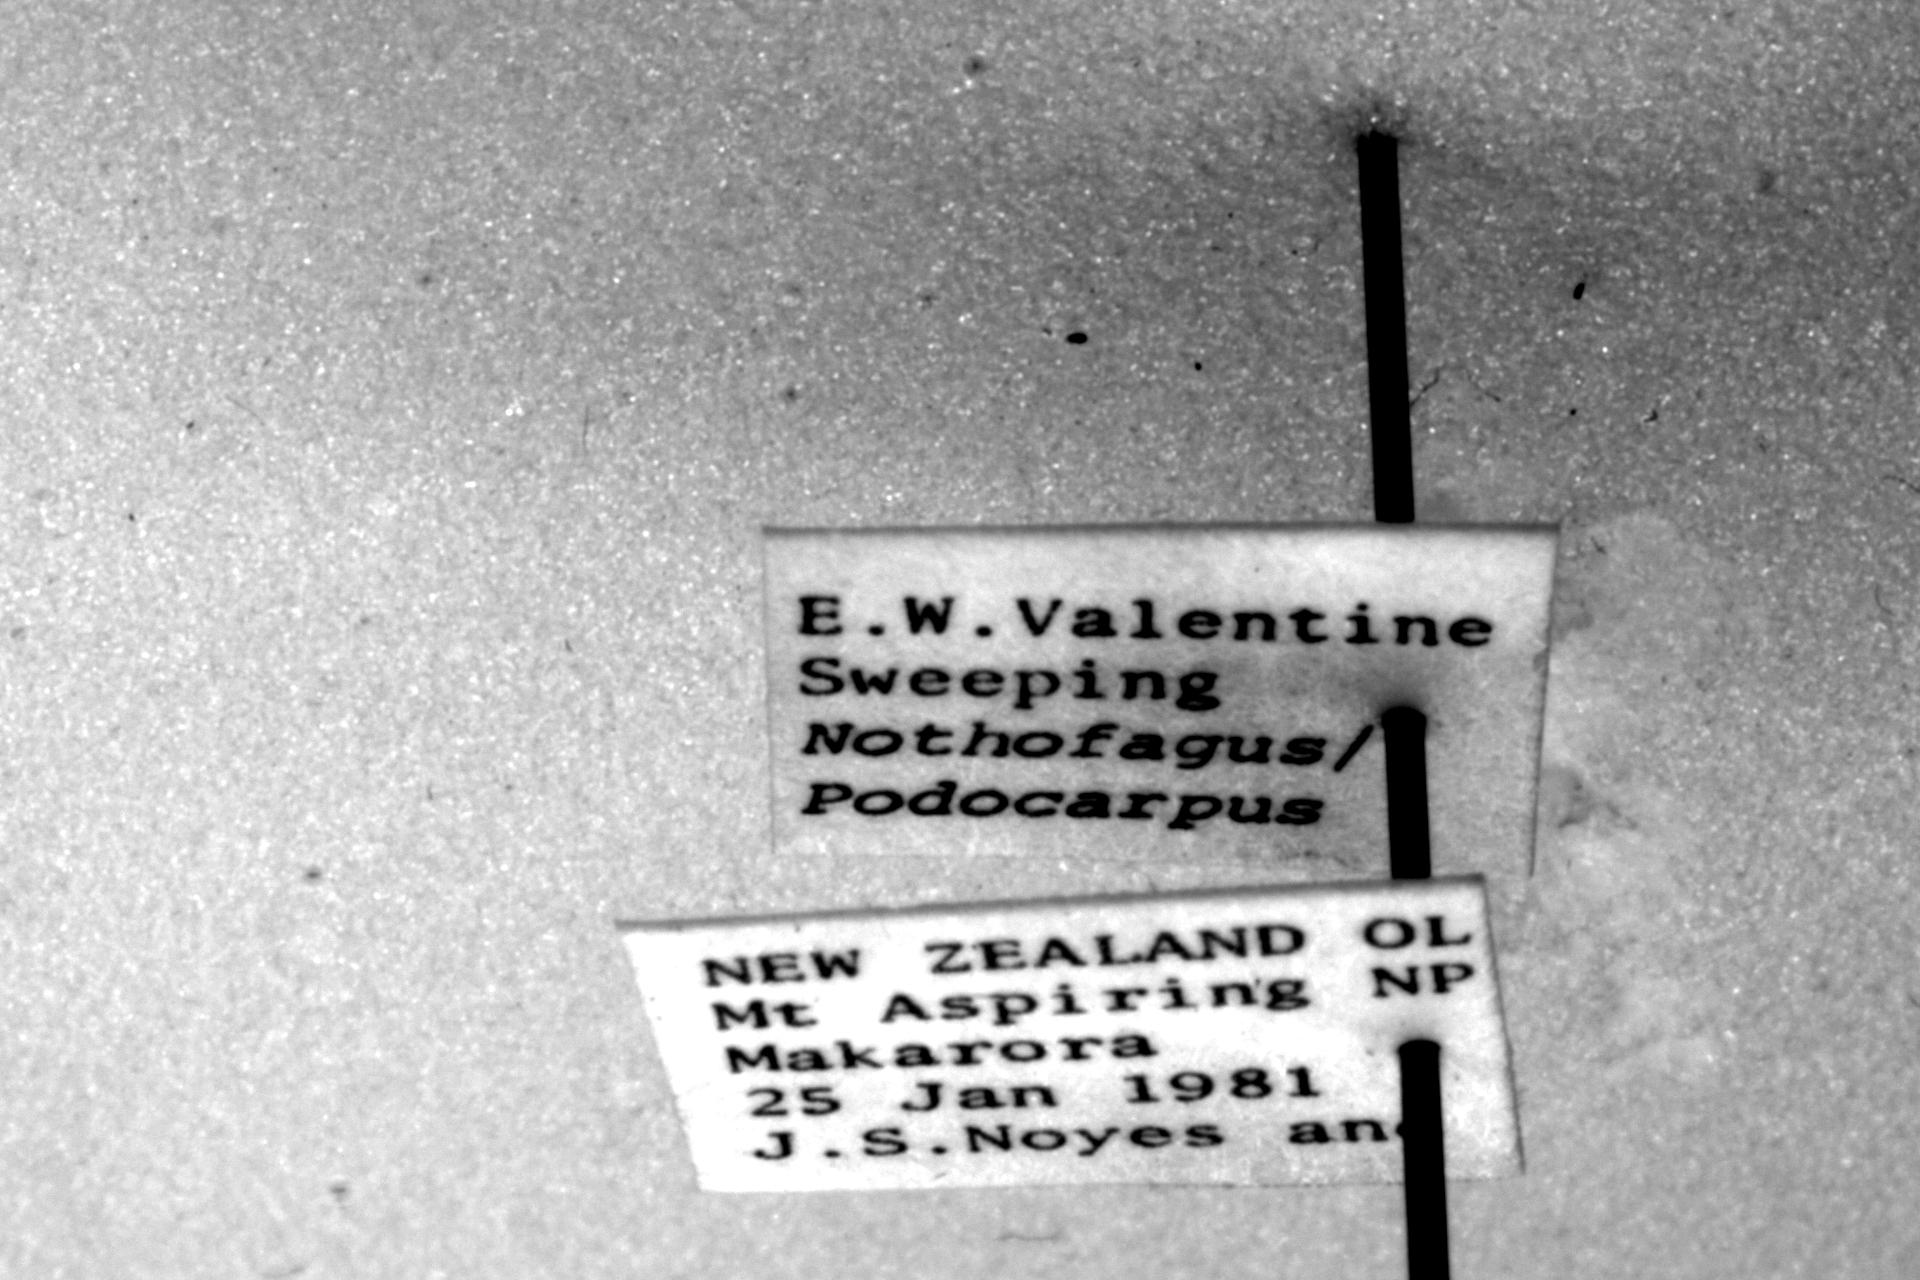typed_label: (622, 881, 1522, 1192), (765, 525, 1556, 878)
